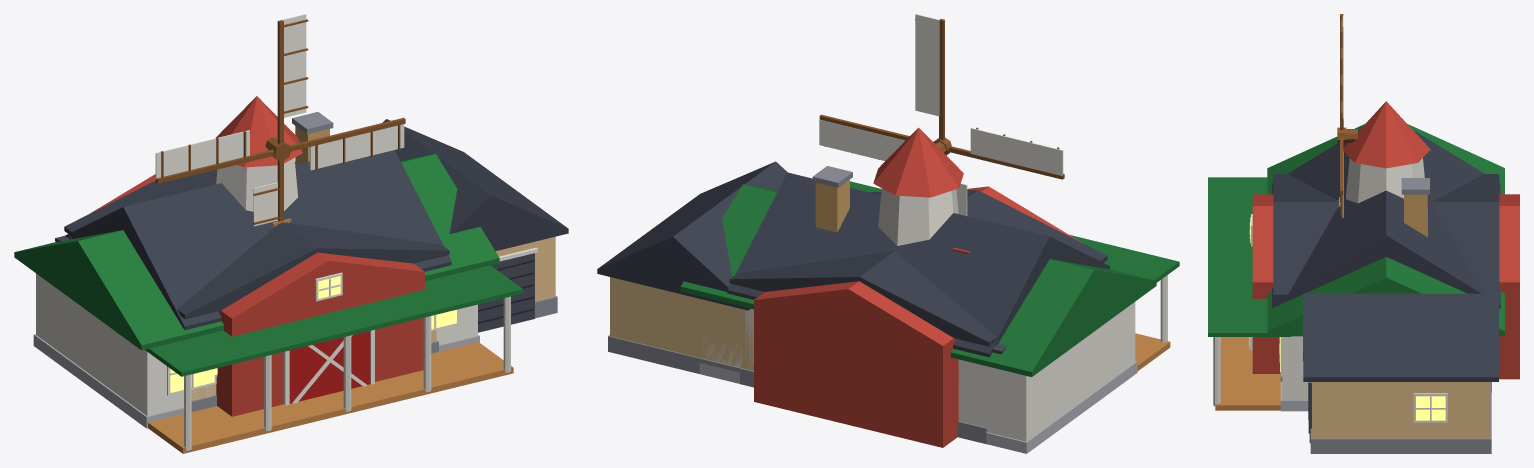
Rendered from buildings.glb.
The picture shows the model from 3 angles, left to right: view 1: azimuth 30°, elevation 25°; view 2: azimuth 150°, elevation 25°; view 3: azimuth 270°, elevation 25°; orthographic projection. The views are drawn at different scales.
Parts seen in each view (by area): view 1: clubhouse, house_a, barn, windmill_blades, windmill; view 2: house_a, barn, clubhouse, windmill_blades, windmill; view 3: house_a, clubhouse, barn, windmill, windmill_blades.
Part boxes in pixels (left/top/right/bottom): clubhouse: left=14, top=154, right=522, bottom=453; house_a: left=65, top=112, right=568, bottom=411; barn: left=64, top=162, right=449, bottom=416; windmill_blades: left=155, top=14, right=405, bottom=226; windmill: left=215, top=96, right=302, bottom=225; house_a: left=597, top=161, right=1109, bottom=443; barn: left=729, top=186, right=1107, bottom=447; clubhouse: left=680, top=181, right=1179, bottom=453; windmill_blades: left=819, top=14, right=1064, bottom=215; windmill: left=873, top=127, right=963, bottom=245; house_a: left=1272, top=129, right=1500, bottom=453; clubhouse: left=1208, top=124, right=1504, bottom=411; barn: left=1249, top=174, right=1519, bottom=379; windmill: left=1338, top=101, right=1430, bottom=206; windmill_blades: left=1337, top=14, right=1346, bottom=217.
Size of the model in its own units: 16.2 by 11.9 by 10.5.
